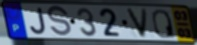2: (100, 7, 125, 38)
3: (75, 7, 98, 38)
J: (29, 6, 48, 36)
Q: (151, 9, 177, 39)
S: (47, 5, 73, 39)
V: (124, 7, 149, 40)
